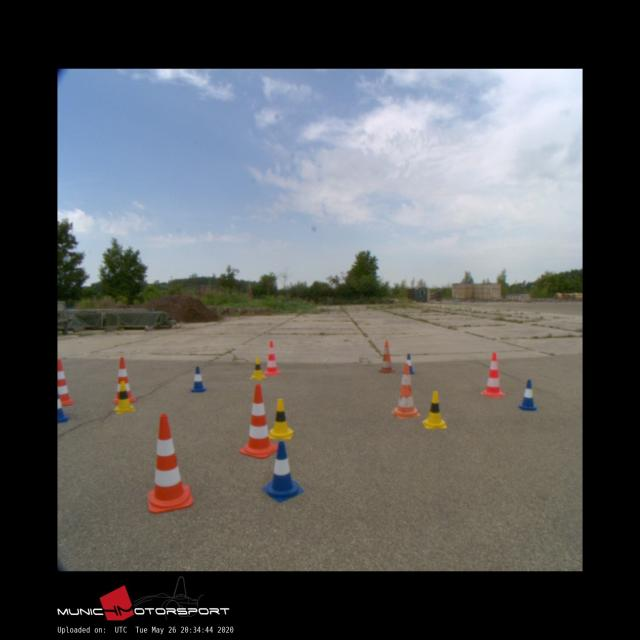blue_cone: (263, 441, 303, 502), (518, 380, 537, 409), (190, 366, 205, 392), (58, 392, 68, 424), (403, 354, 414, 373)
large_orange_cone: (148, 413, 192, 512), (240, 385, 277, 457), (391, 363, 420, 417), (480, 352, 505, 396), (113, 356, 135, 402), (57, 360, 73, 404), (263, 341, 280, 374), (379, 340, 395, 373)
yellow_cone: (269, 398, 293, 438), (422, 390, 446, 428), (112, 381, 134, 412), (250, 357, 265, 378)
